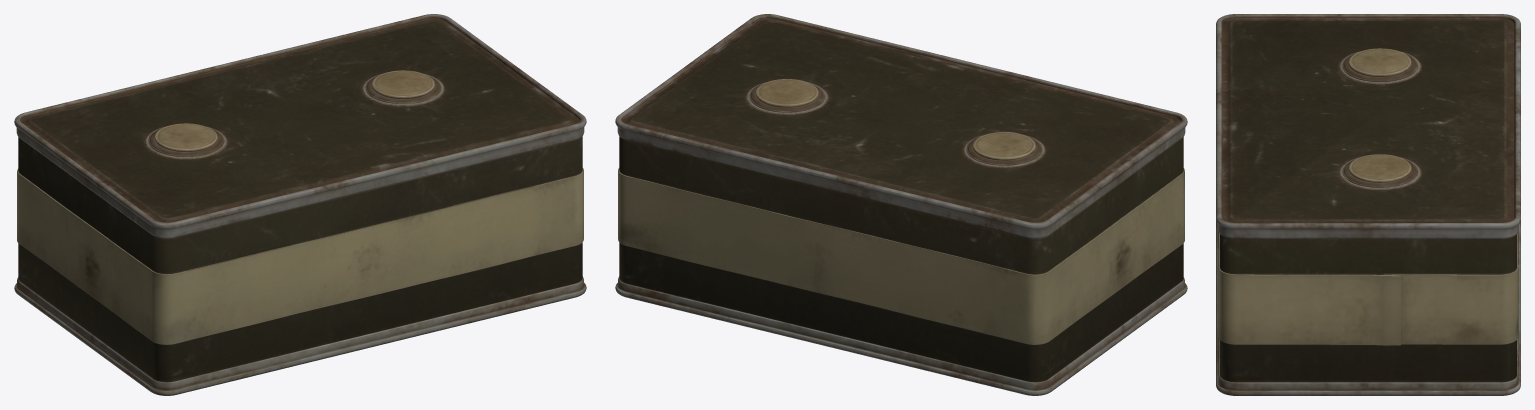
Rendered from cella.glb.
The picture shows the model from 3 angles, left to right: view 1: azimuth 30°, elevation 25°; view 2: azimuth 150°, elevation 25°; view 3: azimuth 270°, elevation 25°; orthographic projection.
Parts seen in each view (by area): view 1: Upper closure • double seam and shallow pressed field, Waxed fibreboard • rectangular sleeve, Blank paper band • lapped on short side, Lower tin shoe • folded and corner-crimped, B • brass contact pad, A • brass contact pad; view 2: Upper closure • double seam and shallow pressed field, Waxed fibreboard • rectangular sleeve, Blank paper band • lapped on short side, Lower tin shoe • folded and corner-crimped, B • brass contact pad, A • brass contact pad; view 3: Upper closure • double seam and shallow pressed field, Waxed fibreboard • rectangular sleeve, Blank paper band • lapped on short side, Lower tin shoe • folded and corner-crimped, A • brass contact pad, B • brass contact pad, B • moulded insulating bush, A • moulded insulating bush, B • drawn eyelet seat, A • drawn eyelet seat.
Boxes of the visible parts, x1,y1,x2,y2 form: Upper closure • double seam and shallow pressed field: (14,14,586,238); Waxed fibreboard • rectangular sleeve: (18,136,582,382); Blank paper band • lapped on short side: (17,168,583,344); Lower tin shoe • folded and corner-crimped: (14,276,586,395); B • brass contact pad: (371,70,434,98); A • brass contact pad: (154,123,217,151); Upper closure • double seam and shallow pressed field: (615,14,1187,238); Waxed fibreboard • rectangular sleeve: (619,136,1183,382); Blank paper band • lapped on short side: (618,168,1184,344); Lower tin shoe • folded and corner-crimped: (615,276,1187,395); B • brass contact pad: (755,79,818,107); A • brass contact pad: (972,132,1035,160); Upper closure • double seam and shallow pressed field: (1216,14,1520,238); Waxed fibreboard • rectangular sleeve: (1220,234,1516,382); Blank paper band • lapped on short side: (1218,232,1518,345); Lower tin shoe • folded and corner-crimped: (1216,220,1520,395); A • brass contact pad: (1348,48,1411,76); B • brass contact pad: (1348,154,1411,182); B • moulded insulating bush: (1344,160,1416,186); A • moulded insulating bush: (1344,54,1416,80); B • drawn eyelet seat: (1338,157,1421,190); A • drawn eyelet seat: (1339,51,1421,84).
Size of the model in its own units: 2 by 0.7826 by 1.22.
Materials: 1 (1 with a texture image).
